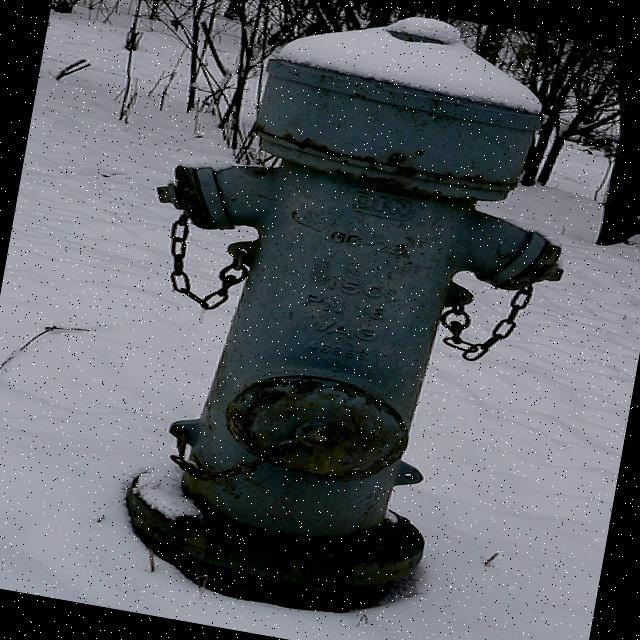fire_hydrant: (92, 0, 593, 640)
